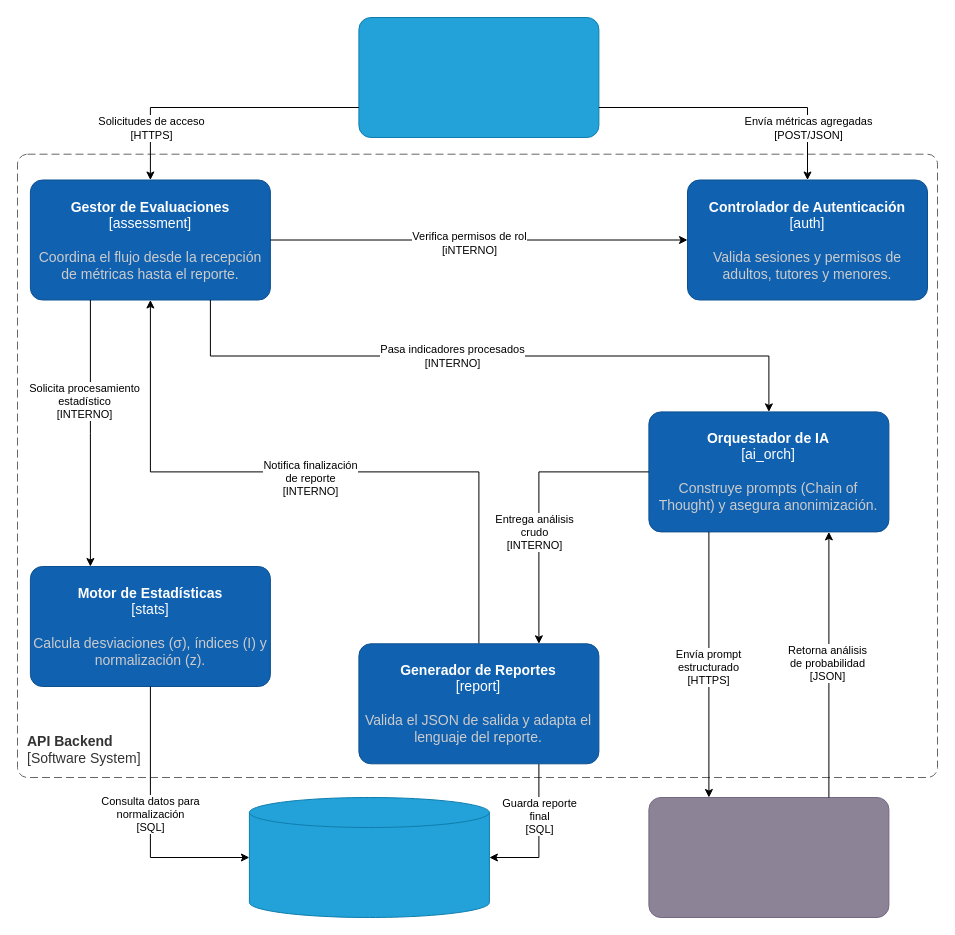
The diagram is 955 pixels wide and 935 high, and some of its shapes have lost their labels. The shapes that lost their labels are listed below. From the top down, each one's box as (x1, y1, x2, y2) in pixels, then its label:
(358, 16, 599, 138): Aplicación Frontend [Container: frontend] Envía eventos y métricas consolidadas.
(248, 796, 489, 918): Base de Datos [Container: db] Persistencia de la información.
(648, 796, 889, 918): Google AI Studio [ai_service] Servicio de análisis cognitivo.
